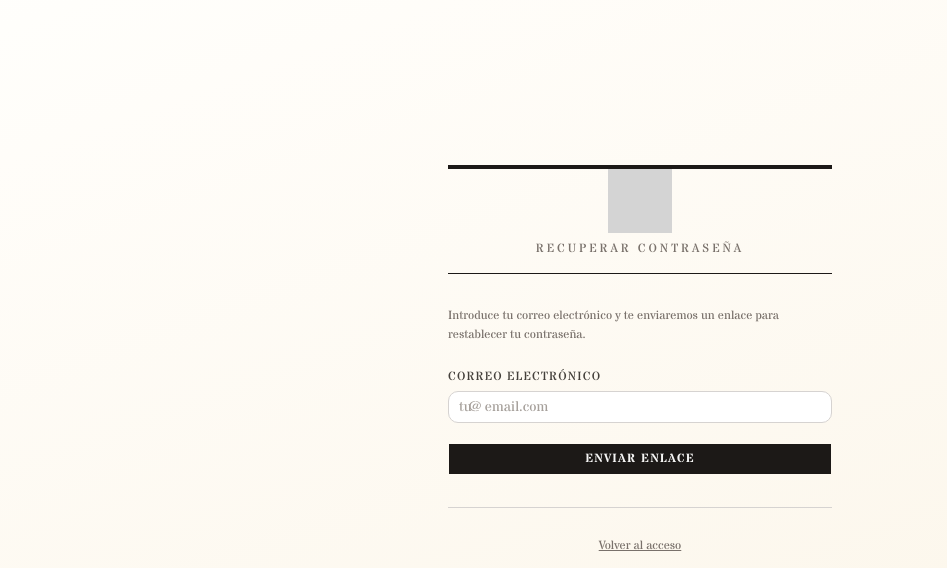
ForgotPassword › shows success message after submitting
Type "user@test.com" into the field with placeholder "tu@email.com".
click(640, 406); type("user@test.com")  # box left=448, top=390, right=832, bottom=422
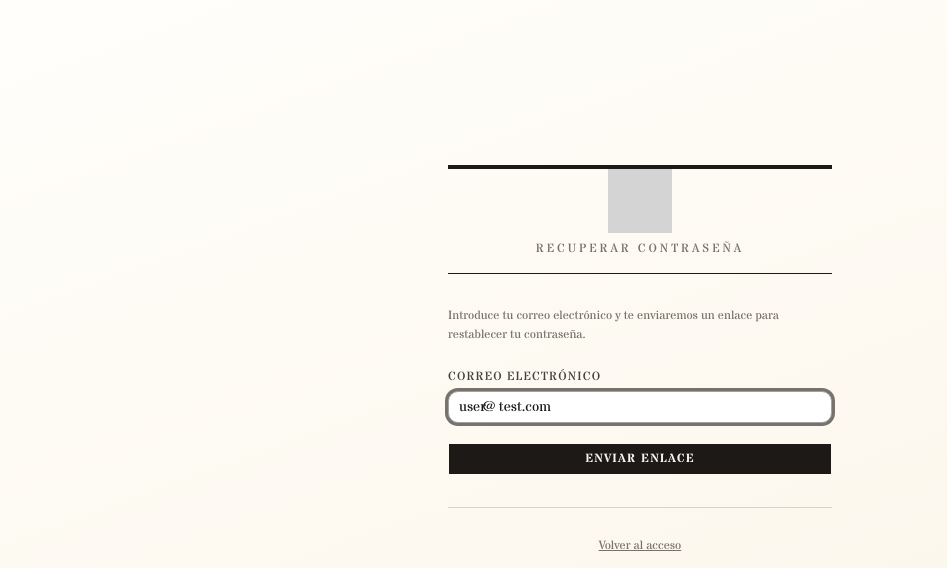
Click the button "Enviar enlace".
click(640, 458)  # box left=448, top=442, right=832, bottom=474
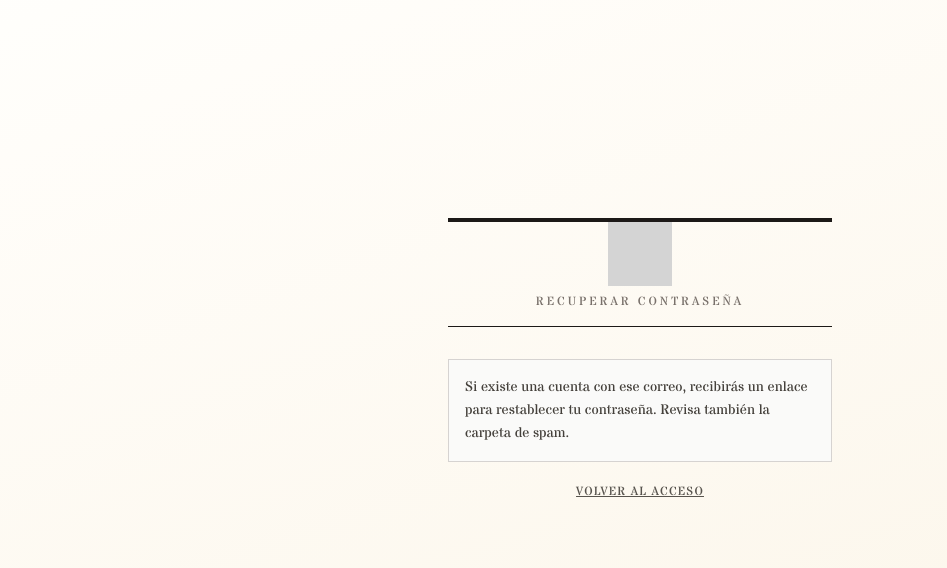
Expected: the text "Si existe una cuenta" is shown, left=465, top=377, right=808, bottom=443
